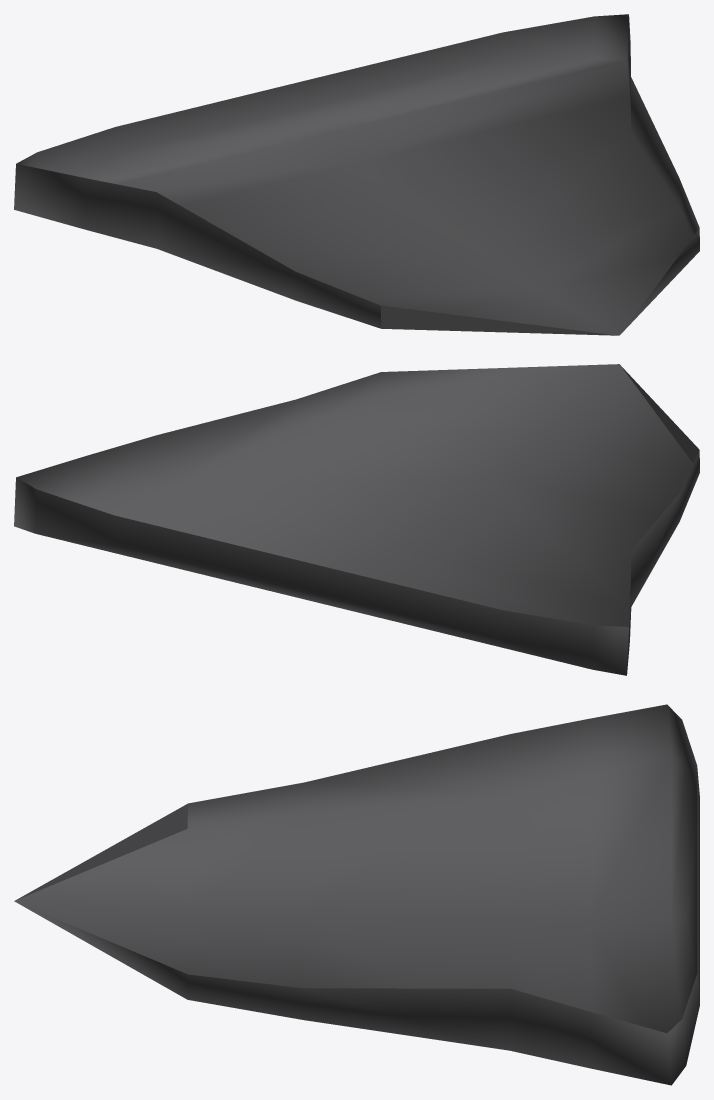
Rendered from Pico_Abajo.obj.
3 renders of one model, top to bottom at view 1: azimuth 30°, elevation 25°; view 2: azimuth 150°, elevation 25°; view 3: azimuth 270°, elevation 25°, orthographic. The views are drawn at different scales.
Visible parts, largest first — view 1: polySurface46 polySurface1 Armature_rootJoint_5; view 2: polySurface46 polySurface1 Armature_rootJoint_5; view 3: polySurface46 polySurface1 Armature_rootJoint_5.
Part boxes in pixels (x1=…): polySurface46 polySurface1 Armature_rootJoint_5: x1=14, y1=14, x2=699, y2=335; polySurface46 polySurface1 Armature_rootJoint_5: x1=14, y1=364, x2=699, y2=675; polySurface46 polySurface1 Armature_rootJoint_5: x1=14, y1=704, x2=699, y2=1085.
Bounding box in the file's own units: 0.5133 × 0.0452 × 0.4523.
Materials: 1 (1 with a texture image).
